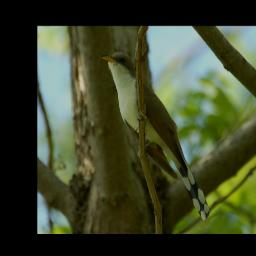Cuckoo: (100, 52, 209, 219)
